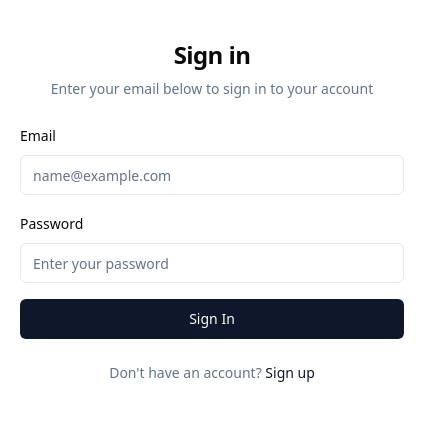
Scenario: Login Page › displays error message on failed sign in
The width and height of the screenshot is (425, 429).
Type "test@example.com" into the field labelled "Email".
click(212, 175); type("test@example.com")  # box x1=20 y1=155 x2=404 y2=195
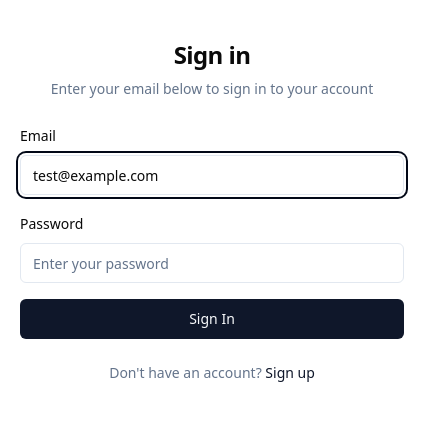
Type "wrongPassword1" into the password field labelled "Password".
click(212, 263); type("wrongPassword1")  # box x1=20 y1=243 x2=404 y2=283
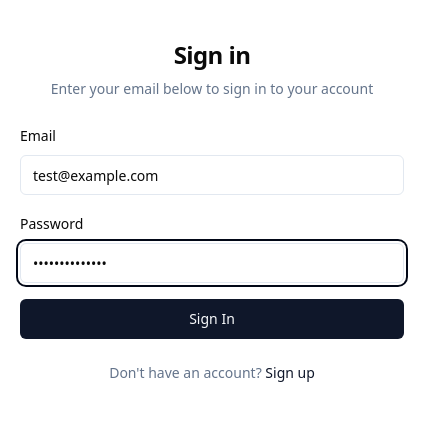
Click the button "Sign In".
click(212, 319)  # box x1=20 y1=299 x2=404 y2=339
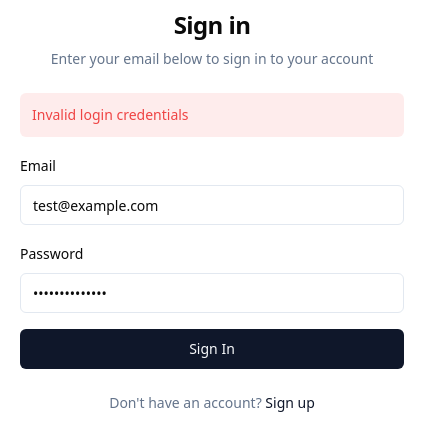
Expected: the text "Invalid login credentials" is shown, x1=20 y1=93 x2=404 y2=137
